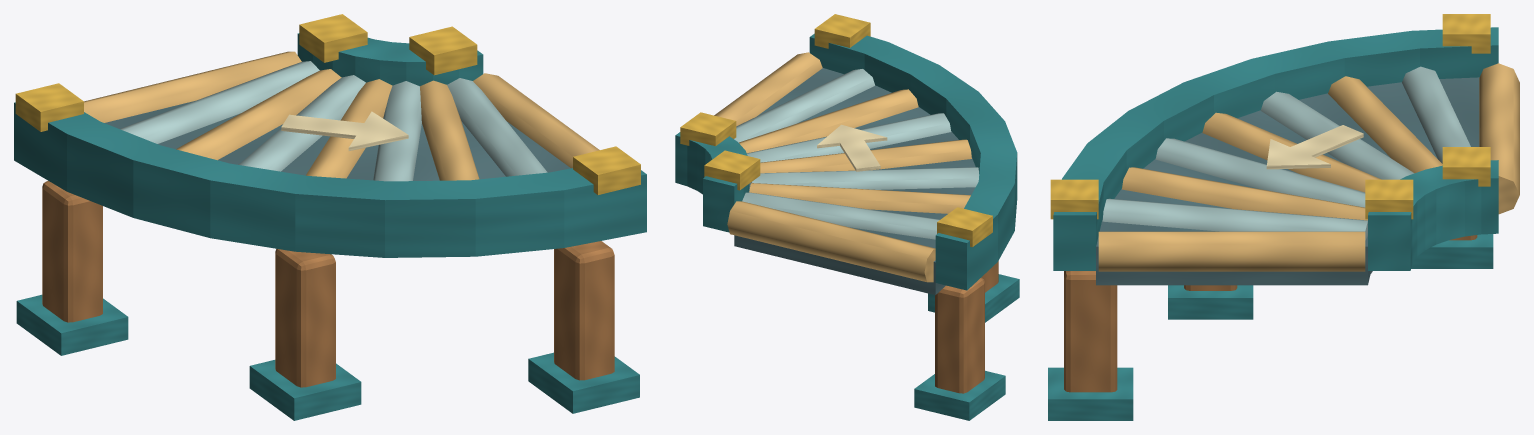
The model's file is industry-conveyor-corner.glb.
The picture shows the model from 3 angles, left to right: view 1: azimuth 30°, elevation 25°; view 2: azimuth 150°, elevation 25°; view 3: azimuth 270°, elevation 25°; orthographic projection. The views are drawn at different scales.
Visible parts, largest first — view 1: industry-conveyor-corner-mesh; view 2: industry-conveyor-corner-mesh; view 3: industry-conveyor-corner-mesh.
Boxes of the visible parts, bbox=[...] form: industry-conveyor-corner-mesh: bbox=[14, 14, 646, 420]; industry-conveyor-corner-mesh: bbox=[675, 14, 1019, 420]; industry-conveyor-corner-mesh: bbox=[1048, 14, 1519, 420].
Size of the model in its own units: 1.76 by 0.92 by 1.77.
1 material, 1 textured.
